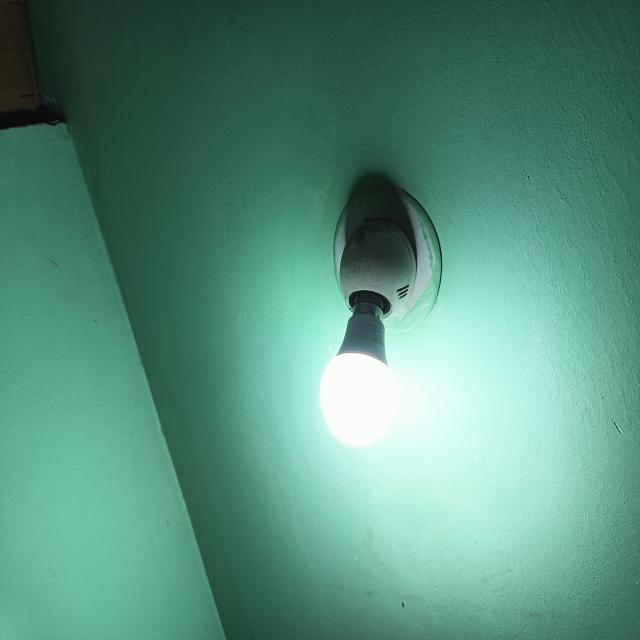bulb_on: (318, 349, 400, 448)
